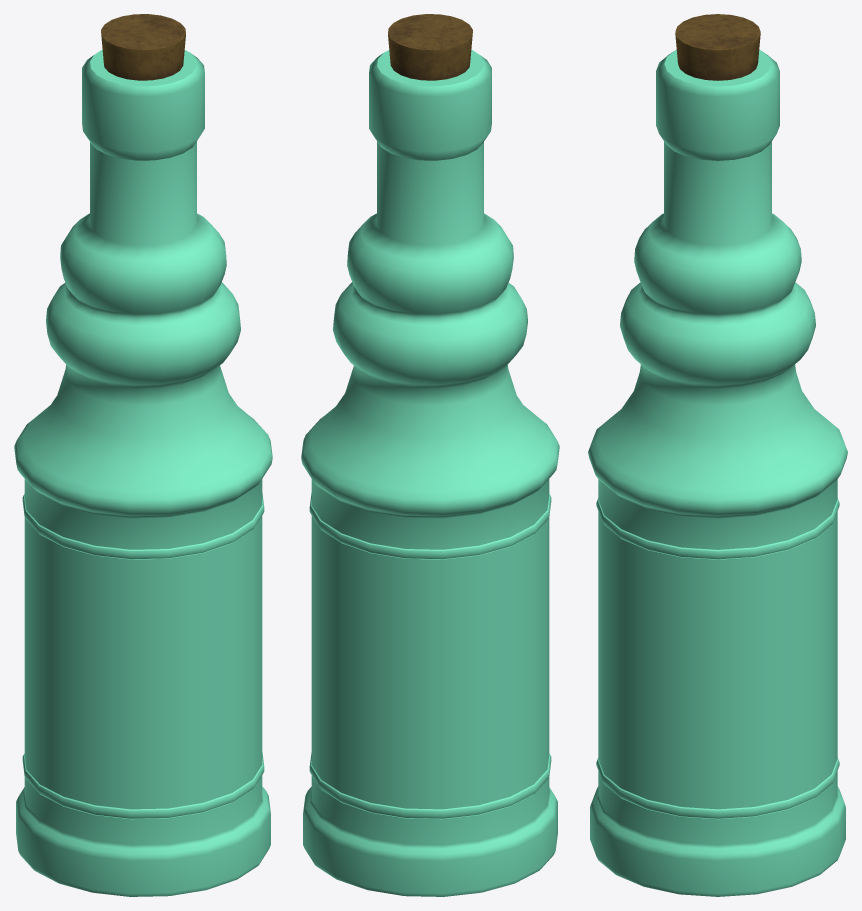
File: Vintage Glass Bottle.fbx
The picture shows the model from 3 angles, left to right: view 1: azimuth 30°, elevation 25°; view 2: azimuth 150°, elevation 25°; view 3: azimuth 270°, elevation 25°; orthographic projection.
Parts seen in each view (by area): view 1: Bottle, Cap; view 2: Bottle, Cap; view 3: Bottle, Cap.
Boxes of the visible parts, box(x1,y1,x2,y2) form: Bottle: box(14, 49, 272, 896); Cap: box(101, 14, 185, 80); Bottle: box(301, 49, 559, 896); Cap: box(388, 14, 472, 80); Bottle: box(588, 50, 847, 896); Cap: box(675, 14, 760, 80).
Bounding box in the file's own units: 4.03 × 13.91 × 4.03.
